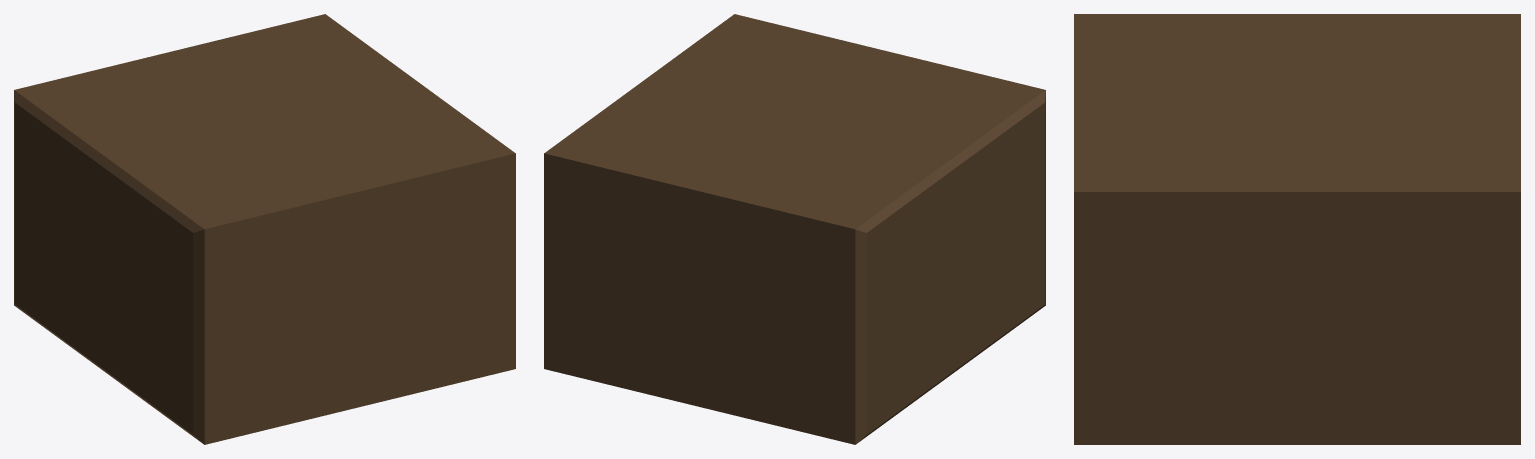
The model's file is Itr_Couch_Inside_Seat_Right_04.FBX.
3 views of the same model, side by side, from view 1: azimuth 30°, elevation 25°; view 2: azimuth 150°, elevation 25°; view 3: azimuth 270°, elevation 25° (orthographic). The views are drawn at different scales.
Visible parts, largest first — view 1: Itr_Couch_Inside_Seat_Right_04; view 2: Itr_Couch_Inside_Seat_Right_04; view 3: Itr_Couch_Inside_Seat_Right_04.
Boxes of the visible parts, x1,y1,x2,y2 form: Itr_Couch_Inside_Seat_Right_04: [14, 14, 515, 444]; Itr_Couch_Inside_Seat_Right_04: [544, 14, 1045, 444]; Itr_Couch_Inside_Seat_Right_04: [1074, 14, 1520, 444].
Size of the model in its own units: 18.88 by 12.29 by 19.68.
